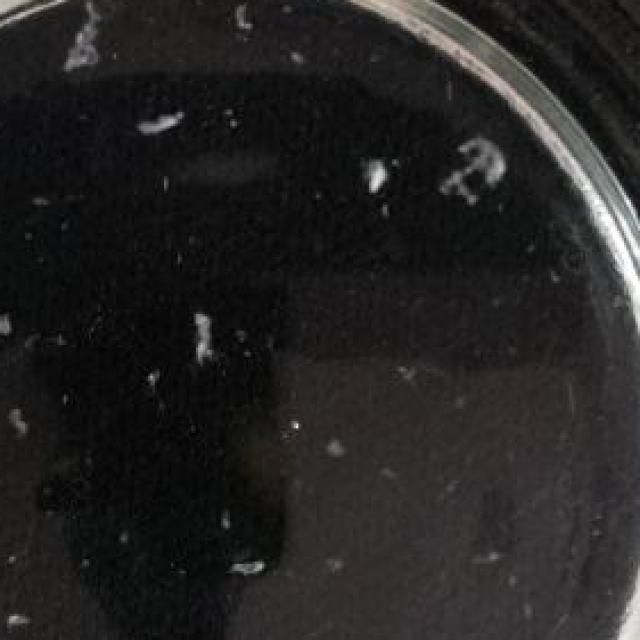Microplastic: (442, 119, 515, 214), (48, 0, 116, 86), (134, 86, 198, 152), (355, 131, 401, 202), (184, 297, 218, 383), (230, 550, 269, 597), (0, 293, 20, 357)
